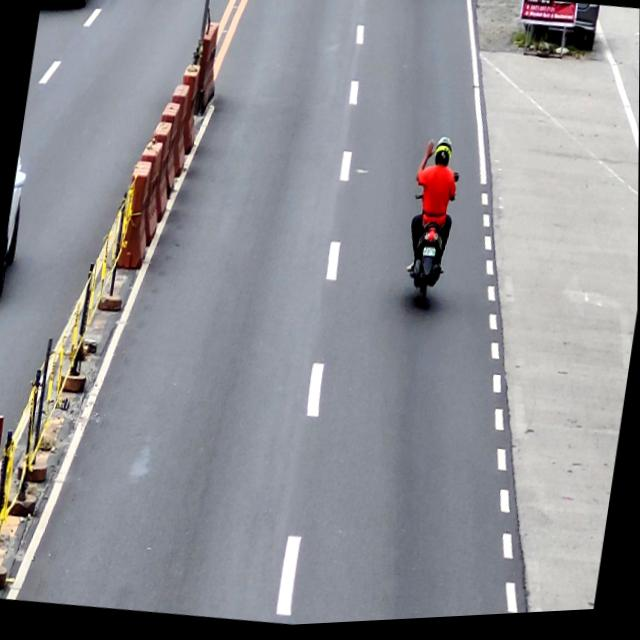License-Plate: (421, 249, 437, 264)
Motorcycle: (400, 194, 456, 313)
